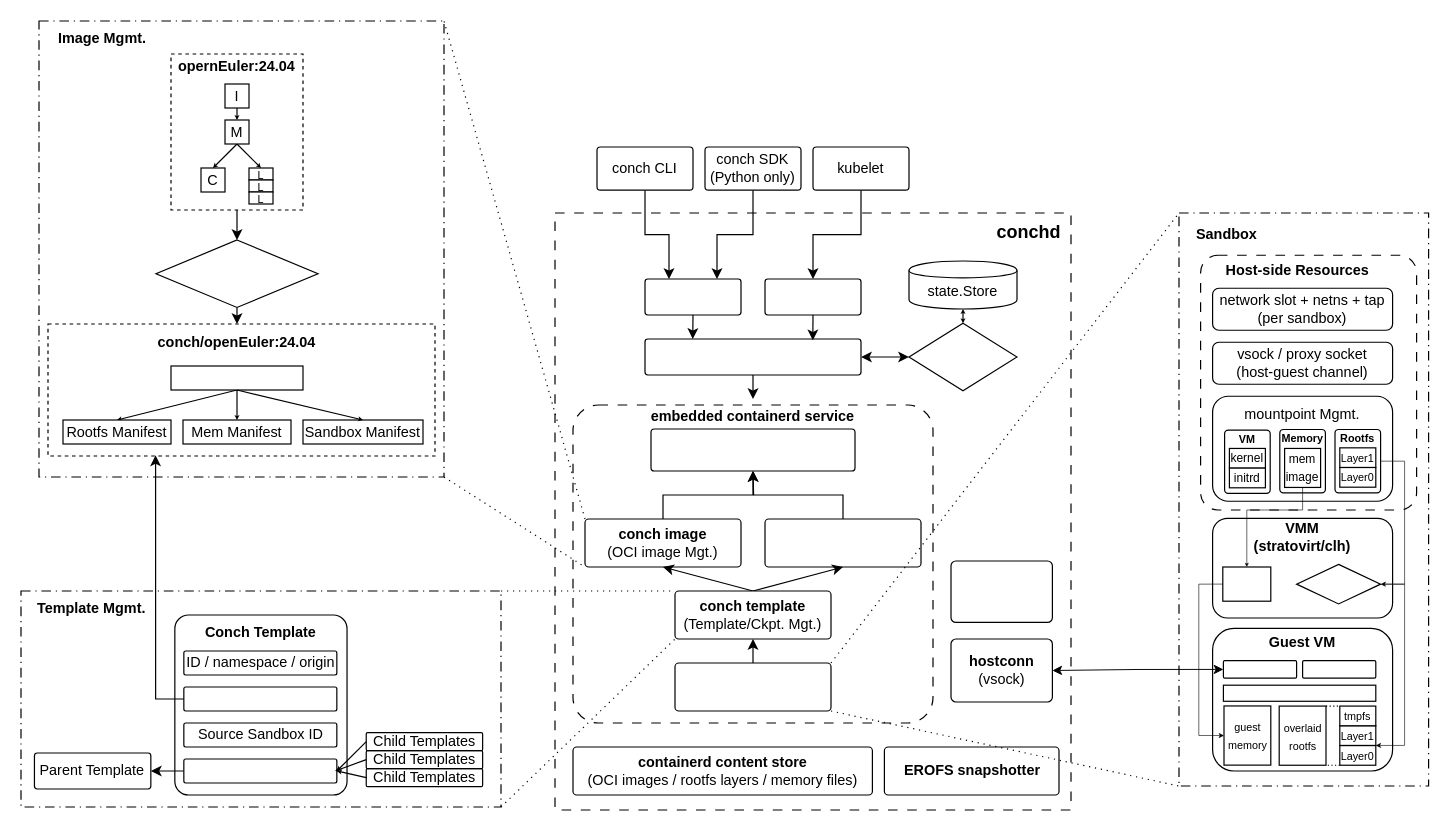
Some shapes in this 1452 by 832 pixel diagram are drawn without their labels. Each missing label, with the box of its shape:
BootIndex ID: (183, 686, 337, 711)
Conch BootIndex: (170, 365, 303, 390)
conch sandbox (sandbox lifetime Mgt.): (674, 662, 831, 711)
conch snapshot (VMmem/rootfs Mgt.): (764, 518, 921, 567)
conch template convert: (155, 239, 318, 307)
conch-agent: (1222, 660, 1297, 678)
conchruntime.Service: (644, 338, 861, 375)
containerd built-in plugins (content/lease/erofs): (650, 428, 855, 471)
CRI server: (764, 278, 861, 315)
guest kernel: (1222, 684, 1376, 701)
HTTP API router: (644, 278, 741, 315)
Network Module (slot pool/CNI): (950, 560, 1052, 622)
Parent Template ID: (183, 758, 337, 783)
priv. mapped mem: (1222, 566, 1271, 601)
State Reconcile: (908, 322, 1017, 391)
user app: (1301, 660, 1376, 678)
virtio-pmem: (1295, 563, 1381, 604)
